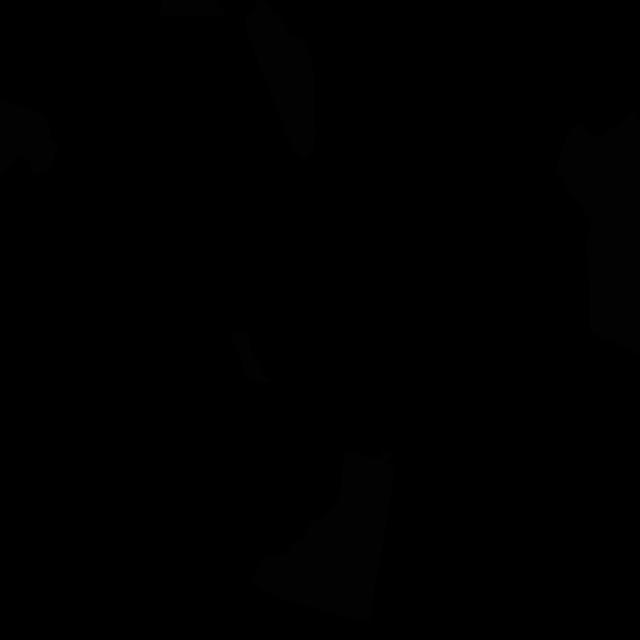cardboard: (252, 449, 395, 621), (556, 111, 640, 274), (244, 0, 316, 163), (586, 223, 640, 356), (0, 100, 58, 179), (231, 332, 272, 384), (158, 0, 226, 17)
